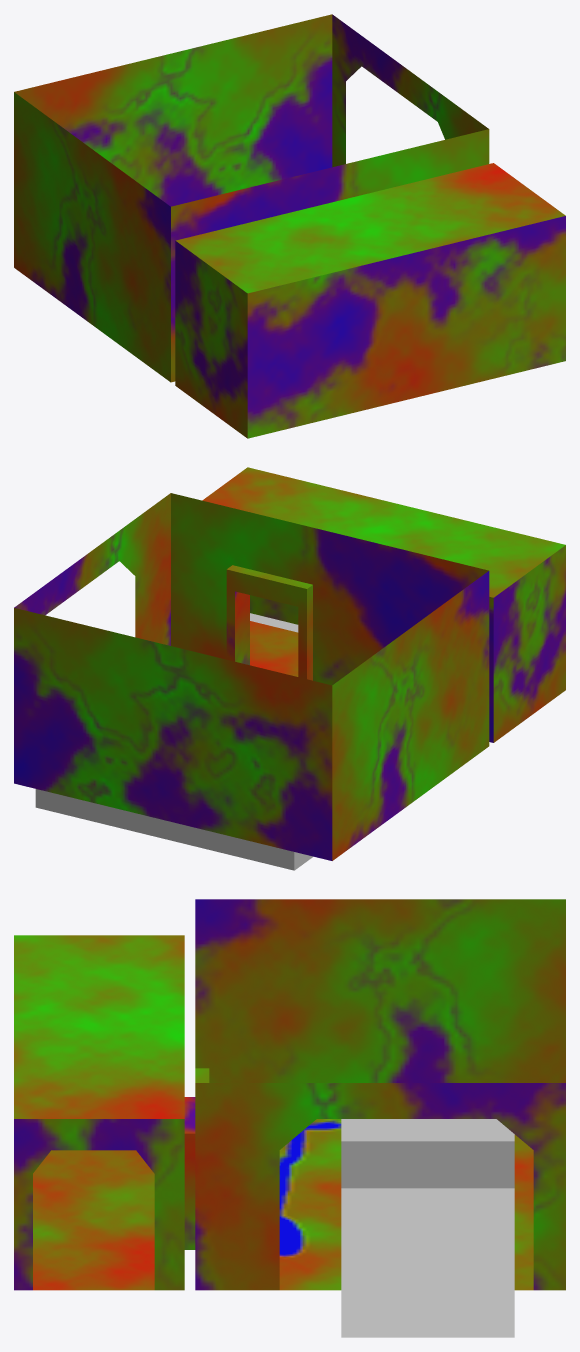
File: Room.fbx
The picture shows the model from 3 angles, top to bottom: view 1: azimuth 30°, elevation 25°; view 2: azimuth 150°, elevation 25°; view 3: azimuth 270°, elevation 25°; orthographic projection. The views are drawn at different scales.
Visible parts, largest first — view 1: Walls, Floor; view 2: Walls, Floor; view 3: Walls, Floor.
Boxes of the visible parts, <box> form: Walls: <box>14,14,565,438</box>; Floor: <box>176,163,565,293</box>; Walls: <box>14,493,565,860</box>; Floor: <box>35,467,565,870</box>; Walls: <box>14,899,565,1290</box>; Floor: <box>14,935,533,1337</box>.
Size of the model in its own units: 11.34 by 7.34 by 14.42.
Materials: 3 (2 with a texture image).
